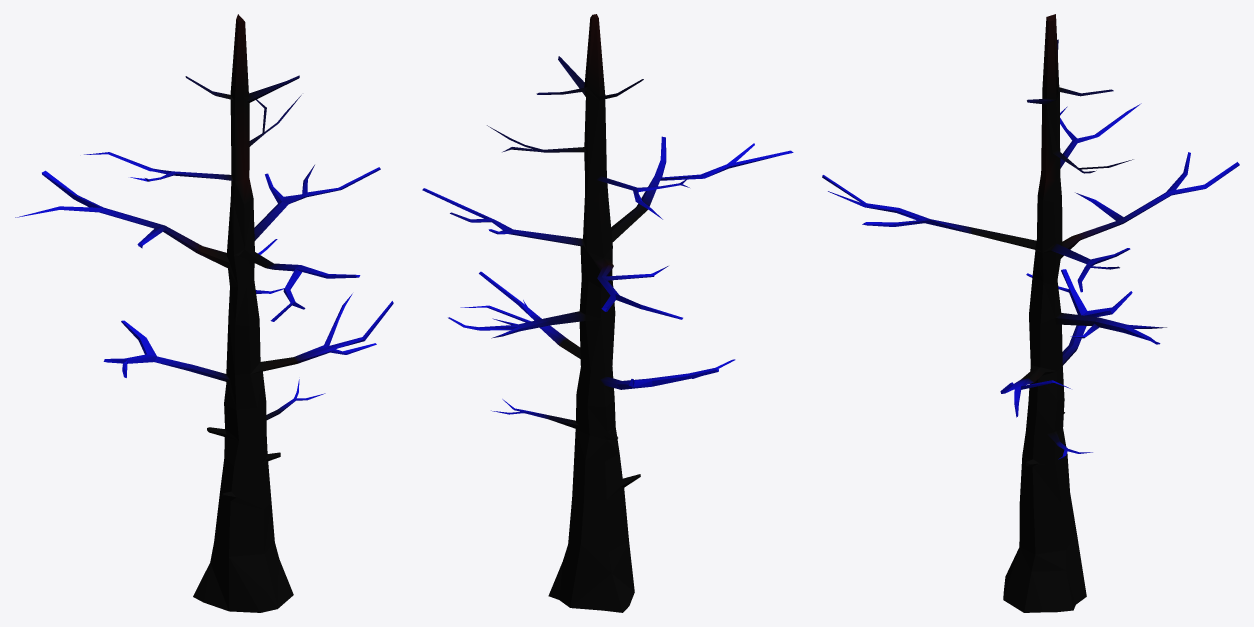
Rendered from Bold1.fbx.
The picture shows the model from 3 angles, left to right: view 1: azimuth 30°, elevation 25°; view 2: azimuth 150°, elevation 25°; view 3: azimuth 270°, elevation 25°; orthographic projection.
Visible parts, largest first — view 1: Tree_Base.012; view 2: Tree_Base.012; view 3: Tree_Base.012.
Boxes of the visible parts, left/top/right/bottom form: Tree_Base.012: left=15, top=14, right=393, bottom=612; Tree_Base.012: left=422, top=14, right=793, bottom=612; Tree_Base.012: left=822, top=14, right=1239, bottom=612.
Bounding box in the file's own units: 173 × 307 × 200.
